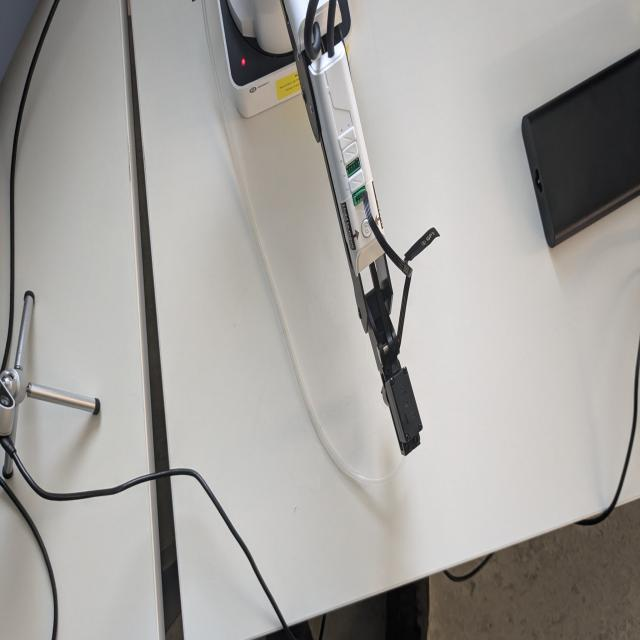Robot-end-effector-HF8z: (378, 359, 424, 457)
